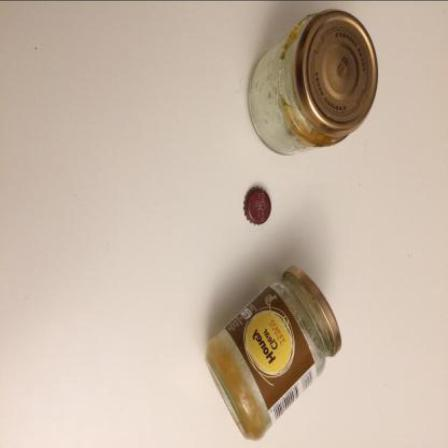Bottle cap: (244, 187, 272, 226)
Lid: (295, 9, 379, 138), (284, 266, 343, 357)
Other litter: (207, 267, 343, 442), (250, 9, 379, 156)
